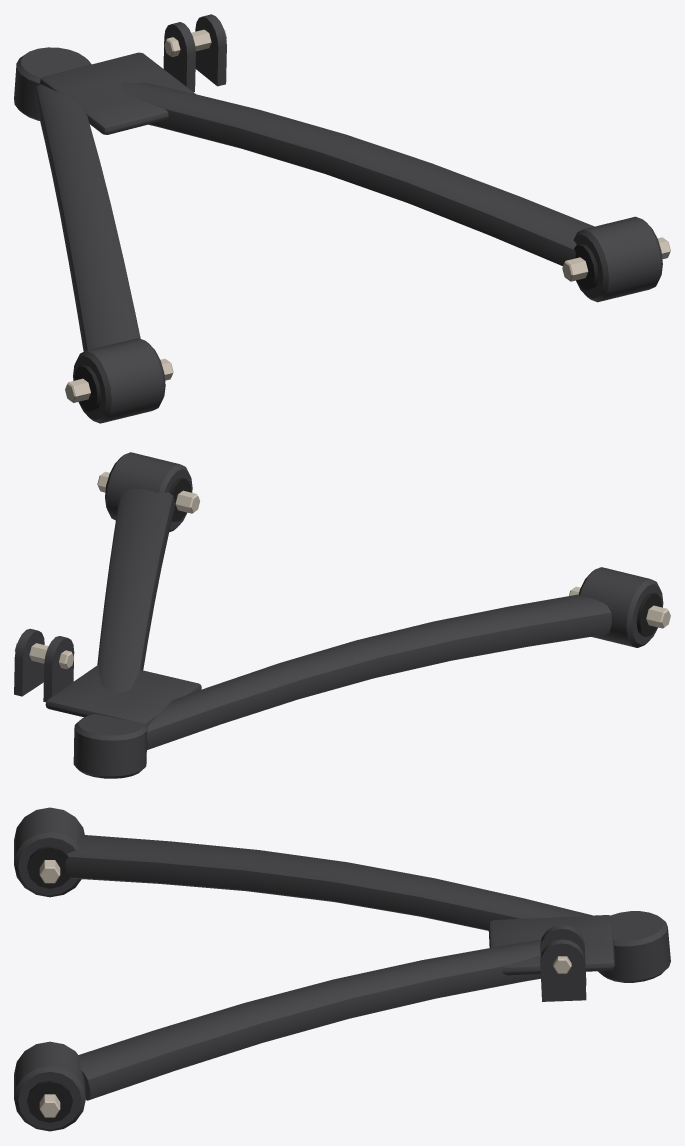
The model's file is SM_Susp_RL_LowerArm.fbx.
The picture shows the model from 3 angles, top to bottom: view 1: azimuth 30°, elevation 25°; view 2: azimuth 150°, elevation 25°; view 3: azimuth 270°, elevation 25°; orthographic projection. The views are drawn at different scales.
Parts seen in each view (by area): view 1: Export_Susp_RL_LowerArm; view 2: Export_Susp_RL_LowerArm; view 3: Export_Susp_RL_LowerArm.
Part boxes in pixels (x1,y1,x2,y2): Export_Susp_RL_LowerArm: (14,14,670,423); Export_Susp_RL_LowerArm: (14,452,670,778); Export_Susp_RL_LowerArm: (14,807,670,1131).
Bounding box in the file's own units: 0.4743 × 0.48 × 0.0892.
